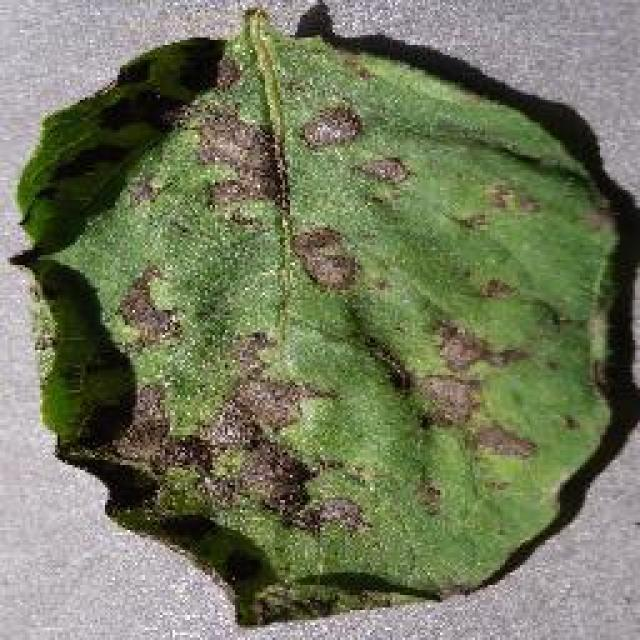Potato___Early_blight: (1, 1, 625, 631)
